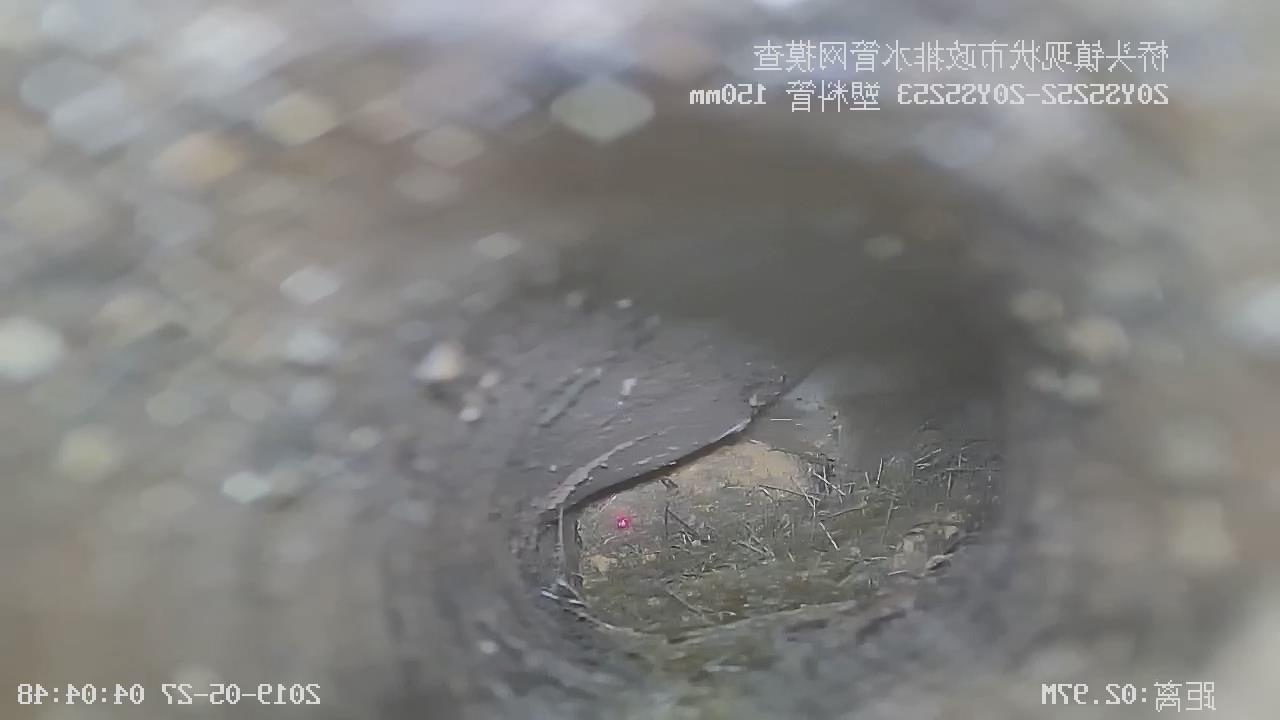BX: (524, 341, 838, 539)
